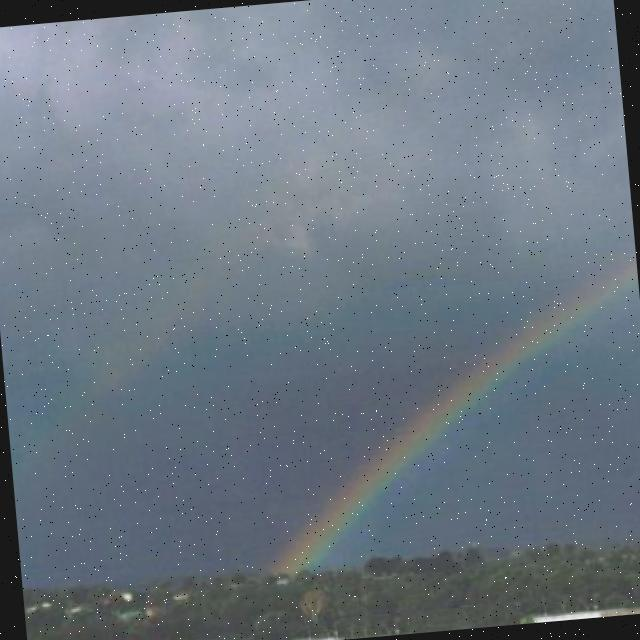St: (1, 1, 640, 482)
